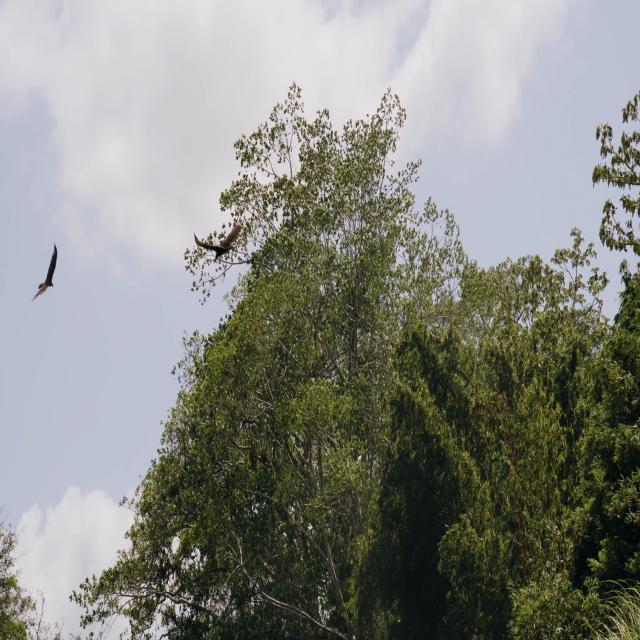bird: (31, 240, 58, 304)
